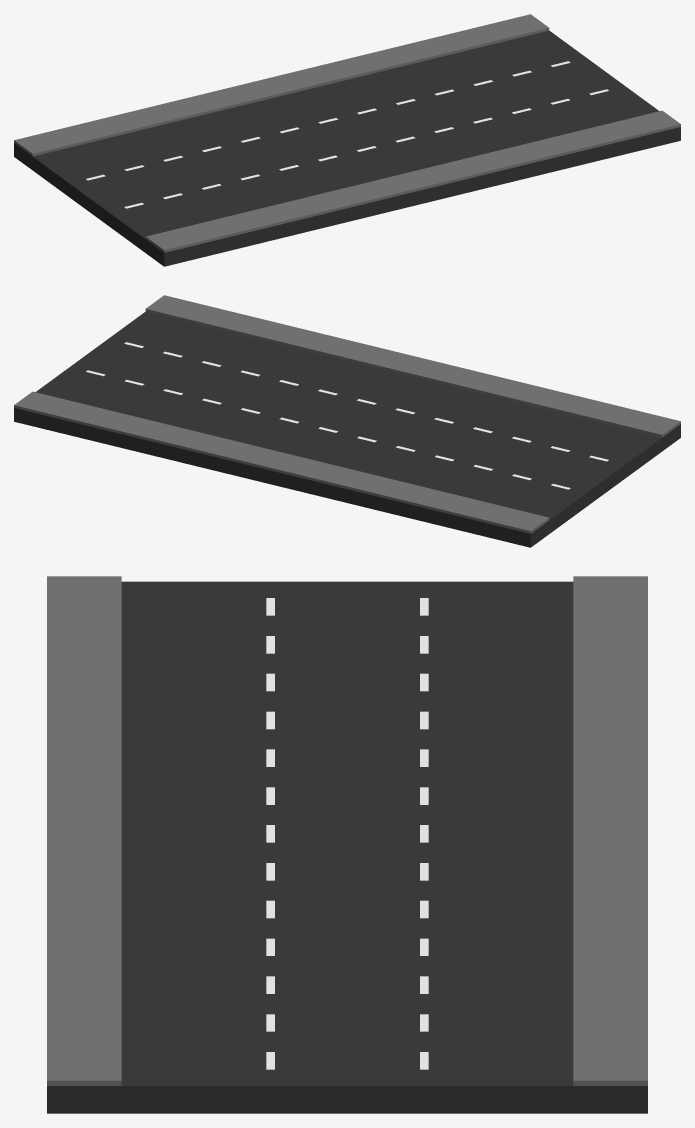
File: Cargo_Road_3_Seritli_40M.fbx
3 renders of one model, top to bottom at view 1: azimuth 30°, elevation 25°; view 2: azimuth 150°, elevation 25°; view 3: azimuth 270°, elevation 25°, orthographic. The views are drawn at different scales.
Parts seen in each view (by area): view 1: Cargo_Road_3_Seritli_40m_Dikey; view 2: Cargo_Road_3_Seritli_40m_Dikey; view 3: Cargo_Road_3_Seritli_40m_Dikey.
Part boxes in pixels (x1,y1,x2,y2): Cargo_Road_3_Seritli_40m_Dikey: [14, 14, 680, 266]; Cargo_Road_3_Seritli_40m_Dikey: [14, 295, 680, 547]; Cargo_Road_3_Seritli_40m_Dikey: [47, 576, 647, 1113].
Size of the model in its own units: 4000 by 123 by 2015.
